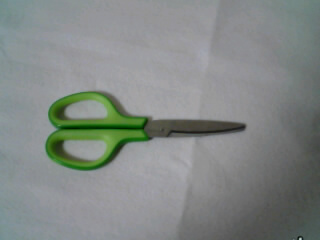003_classes: (39, 85, 258, 178)
